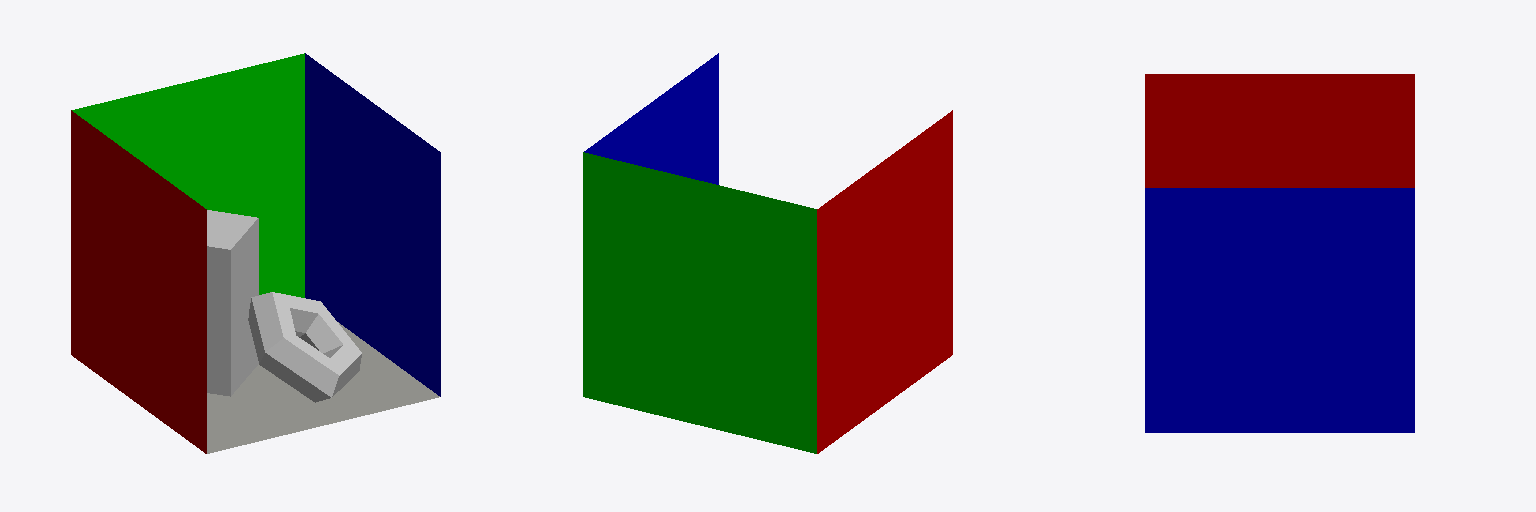
Rendered from CornellBox-Custom.obj.
3 renders of one model, left to right at view 1: azimuth 30°, elevation 25°; view 2: azimuth 150°, elevation 25°; view 3: azimuth 270°, elevation 25°, orthographic.
Visible parts, largest first — view 1: Cube, Cube.001, Torus.001; view 2: Cube; view 3: Cube.
Boxes of the visible parts, box(x1,y1,x2,y2) form: Cube: box(71, 53, 440, 453); Cube.001: box(207, 210, 258, 396); Torus.001: box(248, 292, 361, 402); Cube: box(583, 53, 952, 453); Cube: box(1145, 74, 1414, 432).
Bounding box in the file's own units: 2 × 2.04 × 2.